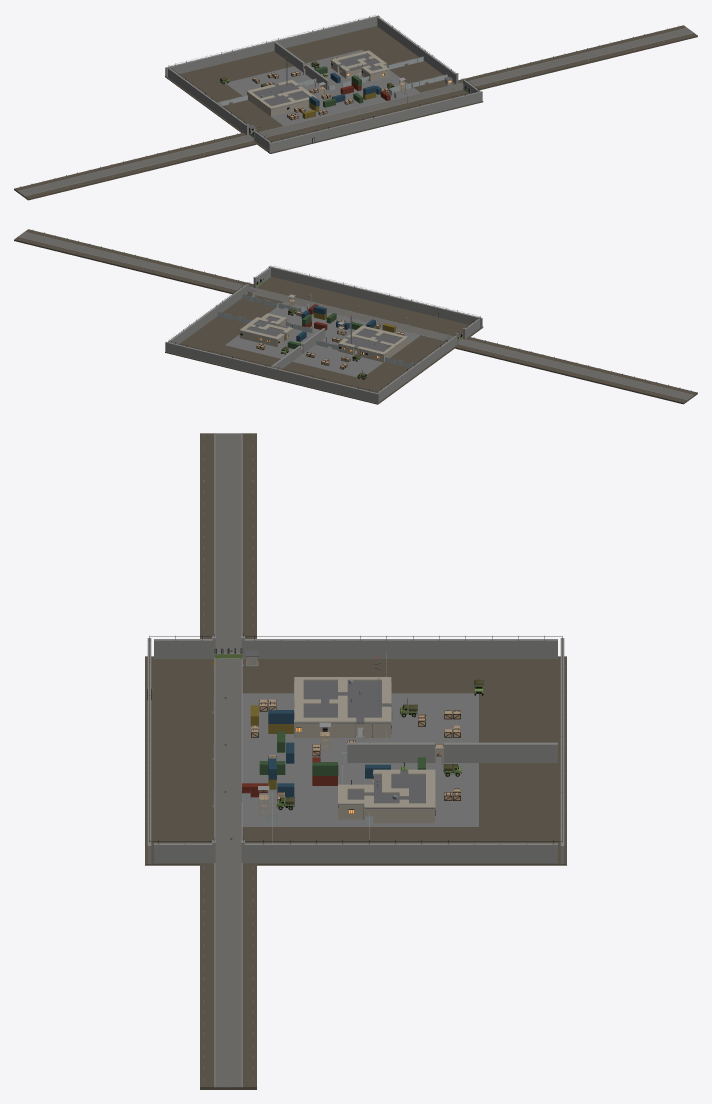
3 renders of one model, top to bottom at view 1: azimuth 30°, elevation 25°; view 2: azimuth 150°, elevation 25°; view 3: azimuth 270°, elevation 25°, orthographic. The views are drawn at different scales.
Parts seen in each view (by area): view 1: base_tierra, base_muro, base_camino, base_suelo, base_pared, base_hormigon, base_tejado, valla_tela, contenedor_1, contenedor_2; view 2: base_tierra, base_muro, base_camino, base_suelo, base_pared, base_hormigon, base_tejado, valla_tela, contenedor_1, contenedor_2; view 3: base_tierra, base_muro, base_camino, base_suelo, base_pared, base_tejado, base_hormigon, base_oscuro, contenedor_1.
Part boxes in pixels (x1,y1,x2,y2): base_tierra: (14, 25, 697, 200); base_muro: (165, 15, 482, 152); base_camino: (18, 28, 693, 195); base_suelo: (225, 49, 420, 125); base_pared: (246, 50, 452, 132); base_hormigon: (17, 26, 693, 196); base_tejado: (247, 53, 452, 128); valla_tela: (217, 57, 447, 105); contenedor_1: (309, 72, 381, 106); contenedor_2: (314, 66, 363, 107); base_tierra: (14, 229, 697, 404); base_muro: (165, 266, 482, 403); base_camino: (18, 232, 693, 399); base_suelo: (225, 302, 420, 378); base_pared: (239, 292, 446, 362); base_hormigon: (18, 230, 693, 400); base_tejado: (244, 289, 450, 355); valla_tela: (218, 294, 414, 367); contenedor_1: (296, 305, 375, 341); contenedor_2: (287, 313, 362, 348); base_tierra: (145, 433, 566, 1089); base_muro: (147, 638, 564, 864); base_camino: (215, 433, 241, 1087); base_suelo: (242, 693, 478, 826); base_pared: (246, 657, 443, 823); base_tejado: (245, 650, 434, 808); base_hormigon: (203, 433, 258, 1087); base_oscuro: (147, 633, 562, 843); contenedor_1: (268, 710, 390, 797).
Size of what is drawn, in the model's own units: 352 by 18.85 by 96.
